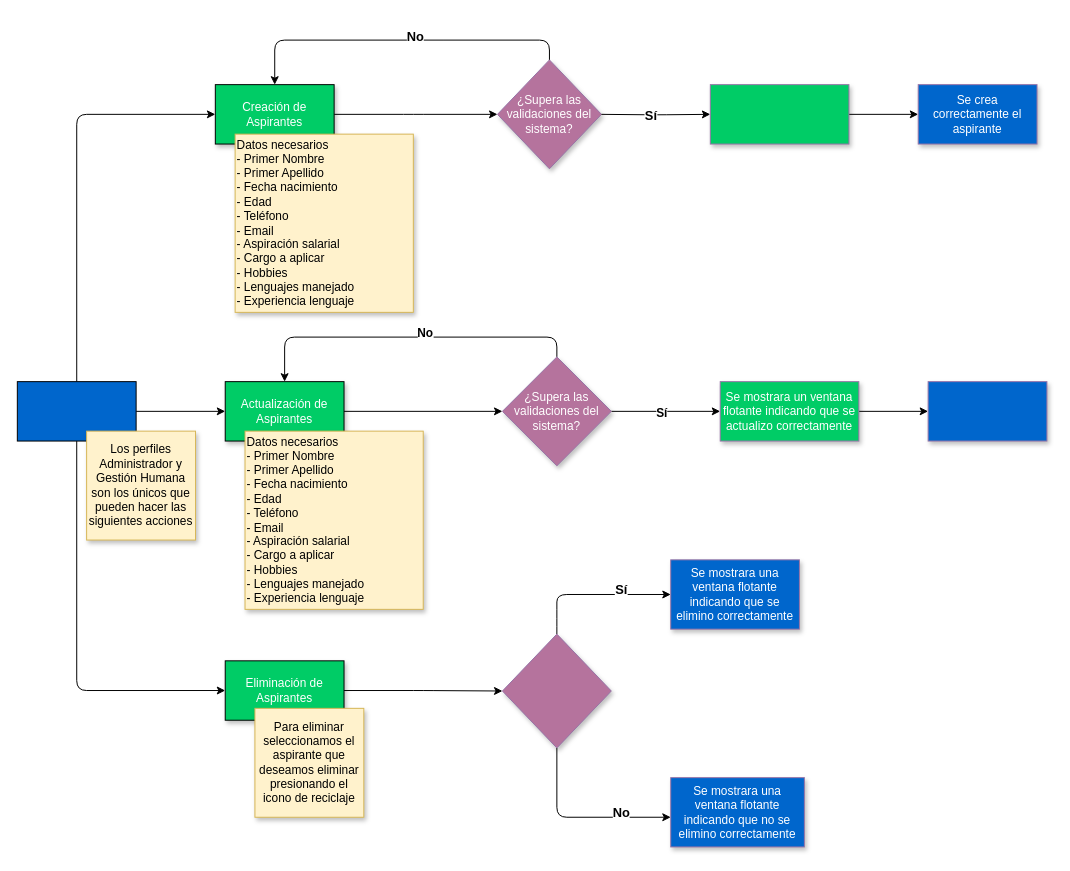
The diagram is 1070 pixels wide and 871 high, and some of its shapes have lost their labels. The shapes that lost their labels are listed below. From the top down, each one's centre as x and y in pixels, then its label:
At point 780,115: "Se mostrara un ventana flotante indicando que se creo correctamente".
At point 76,411: "Ingreso a la interfaz de creación de aspirantes".
At point 988,412: "Se actualiza correctamente el aspirante".
At point 557,692: "¿Si se elimina correctamente?".
